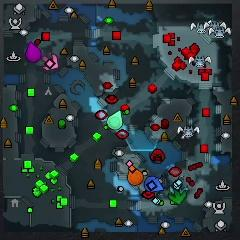p1: (145, 176, 164, 194)
p2: (106, 111, 124, 129)
p3: (25, 42, 42, 63)
p5: (127, 166, 145, 185)
x1: (41, 54, 58, 71)
x3: (169, 182, 188, 195)
x4: (167, 187, 187, 205)
